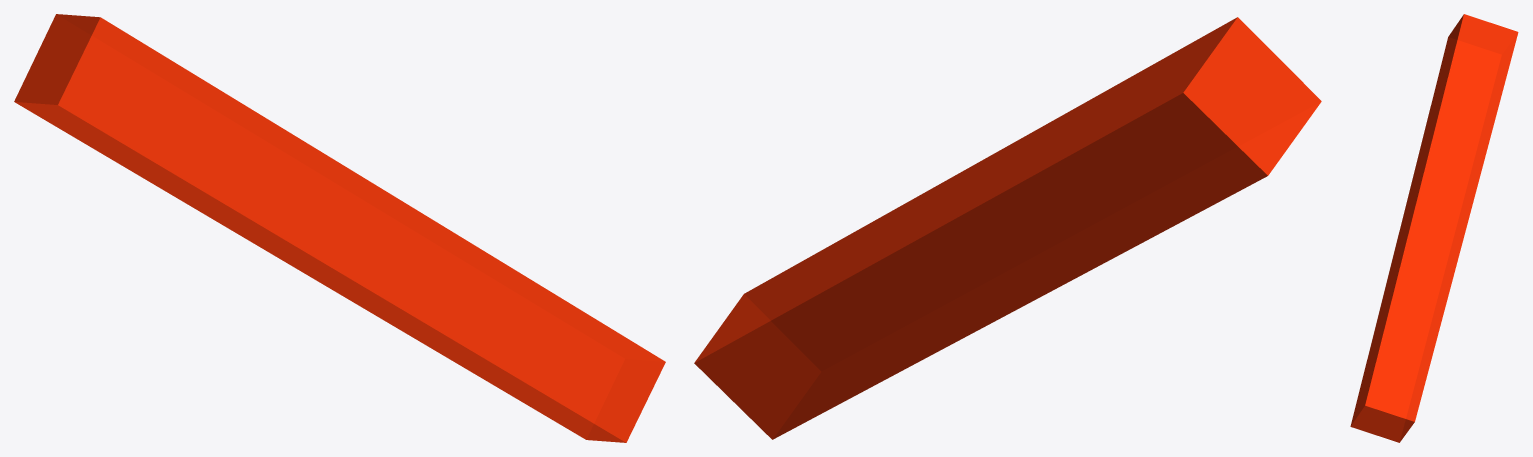
File: Event_420107950_EBrechit_4.fbx
3 renders of one model, left to right at view 1: azimuth 30°, elevation 25°; view 2: azimuth 150°, elevation 25°; view 3: azimuth 270°, elevation 25°, orthographic. The views are drawn at different scales.
Parts seen in each view (by area): view 1: Model; view 2: Model; view 3: Model.
Boxes of the visible parts, x1,y1,x2,y2 form: Model: (14, 14, 665, 442); Model: (694, 17, 1321, 439); Model: (1350, 14, 1518, 442).
Bounding box in the file's own units: 0.4037 × 0.3498 × 0.1778.
